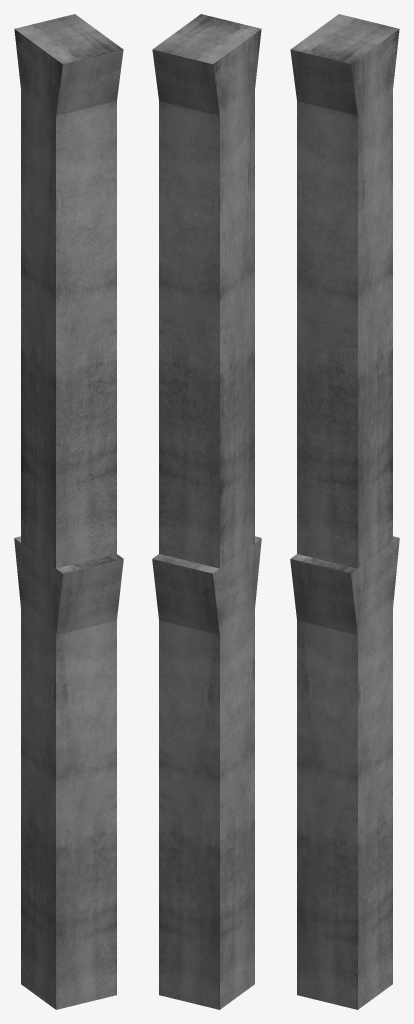
File: pilars.fbx
The picture shows the model from 3 angles, left to right: view 1: azimuth 30°, elevation 25°; view 2: azimuth 150°, elevation 25°; view 3: azimuth 330°, elevation 25°; orthographic projection.
Parts seen in each view (by area): view 1: pilarBig; view 2: pilarBig; view 3: pilarBig.
Boxes of the visible parts, bbox=[...] form: pilarBig: bbox=[14, 14, 123, 1009]; pilarBig: bbox=[152, 14, 261, 1009]; pilarBig: bbox=[290, 14, 399, 1009].
Bounding box in the file's own units: 0.7056 × 10.55 × 0.9832.
